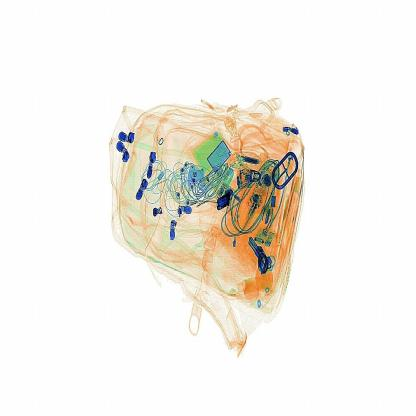knife: (214, 194, 238, 215)
